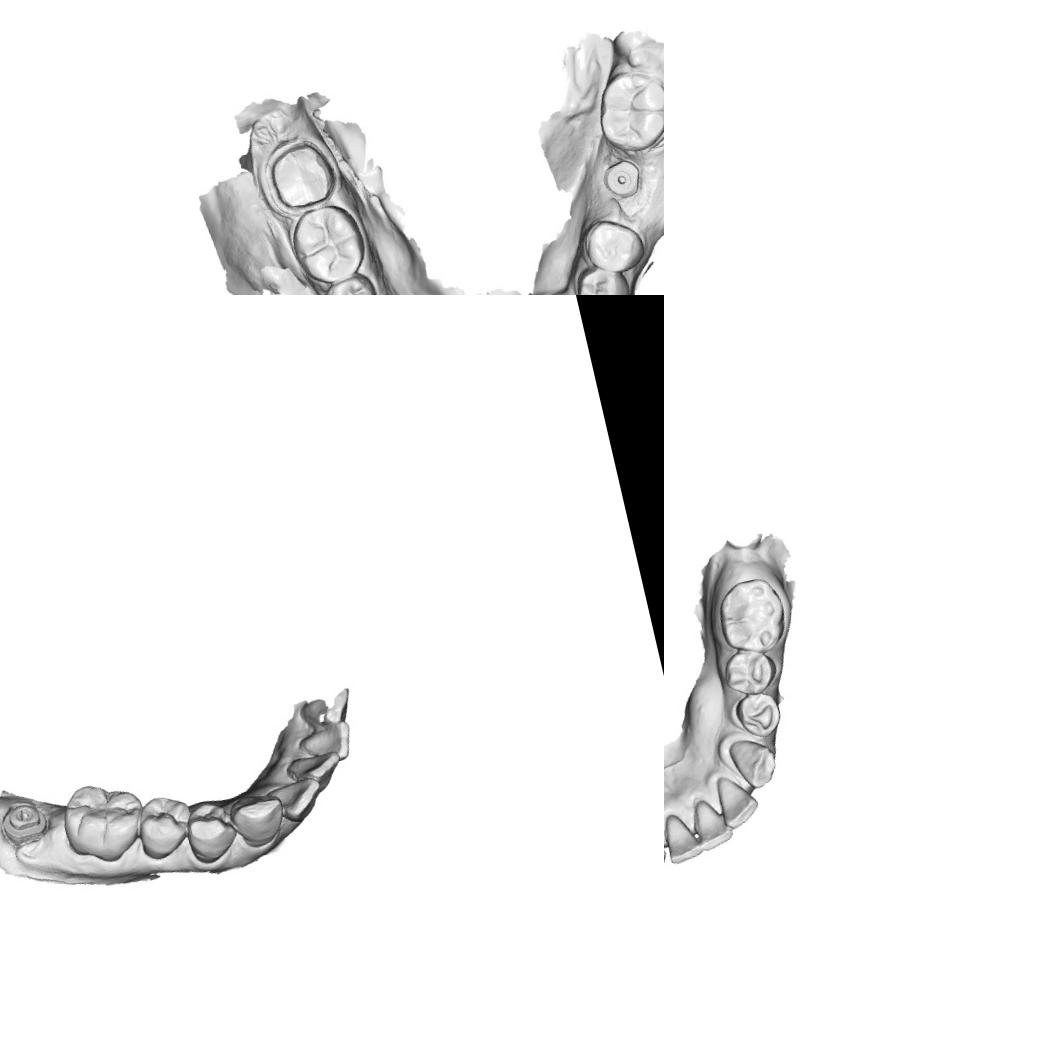canine: (226, 786, 291, 852), (724, 732, 784, 795)
crown: (258, 132, 342, 218)
implant: (598, 154, 646, 204)
implant_minus: (0, 795, 52, 851)
incisor: (686, 792, 737, 854), (712, 769, 762, 832), (282, 748, 345, 795), (302, 716, 358, 767), (275, 774, 328, 824), (300, 684, 356, 730), (664, 807, 705, 866)
molar: (54, 774, 152, 872), (284, 198, 372, 292), (587, 62, 664, 159), (710, 572, 792, 661)
premolar: (578, 210, 651, 282), (131, 788, 199, 863), (179, 796, 244, 867), (718, 644, 781, 700), (731, 687, 788, 744), (571, 262, 636, 295), (316, 270, 383, 295)
